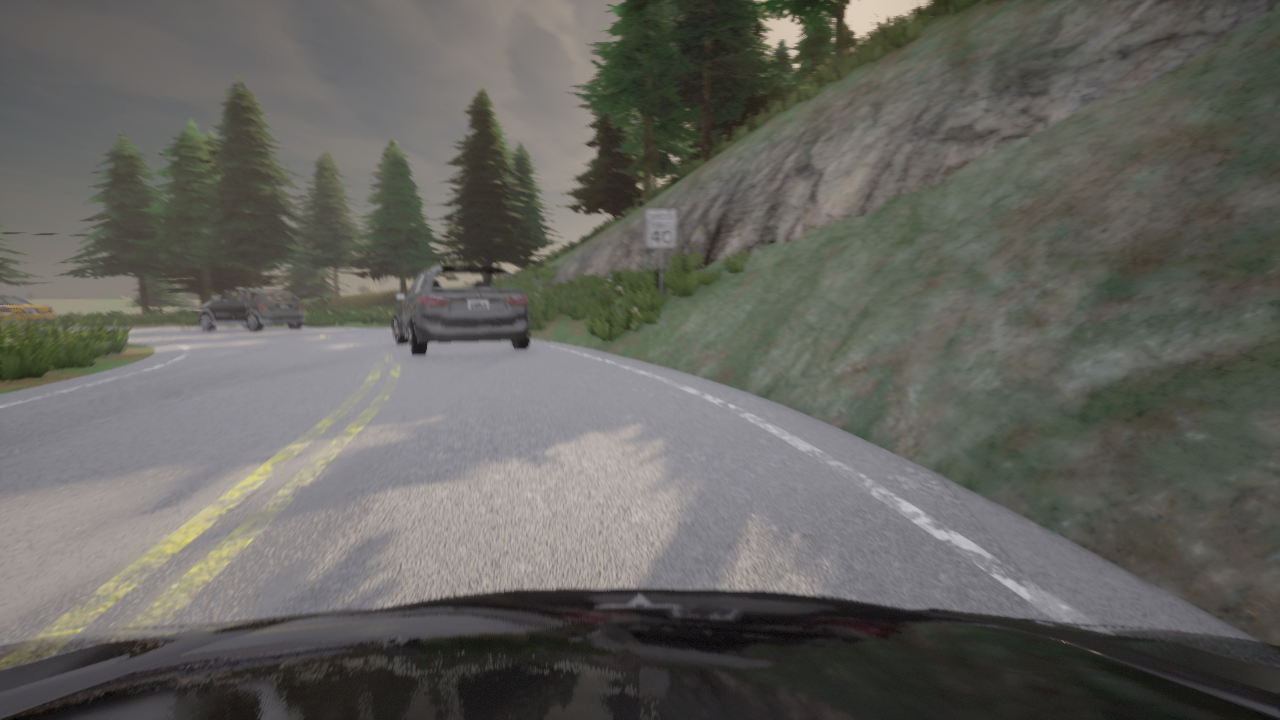cyclist: (0, 588, 1279, 719), (392, 265, 531, 355), (198, 288, 304, 331), (0, 295, 54, 323)
